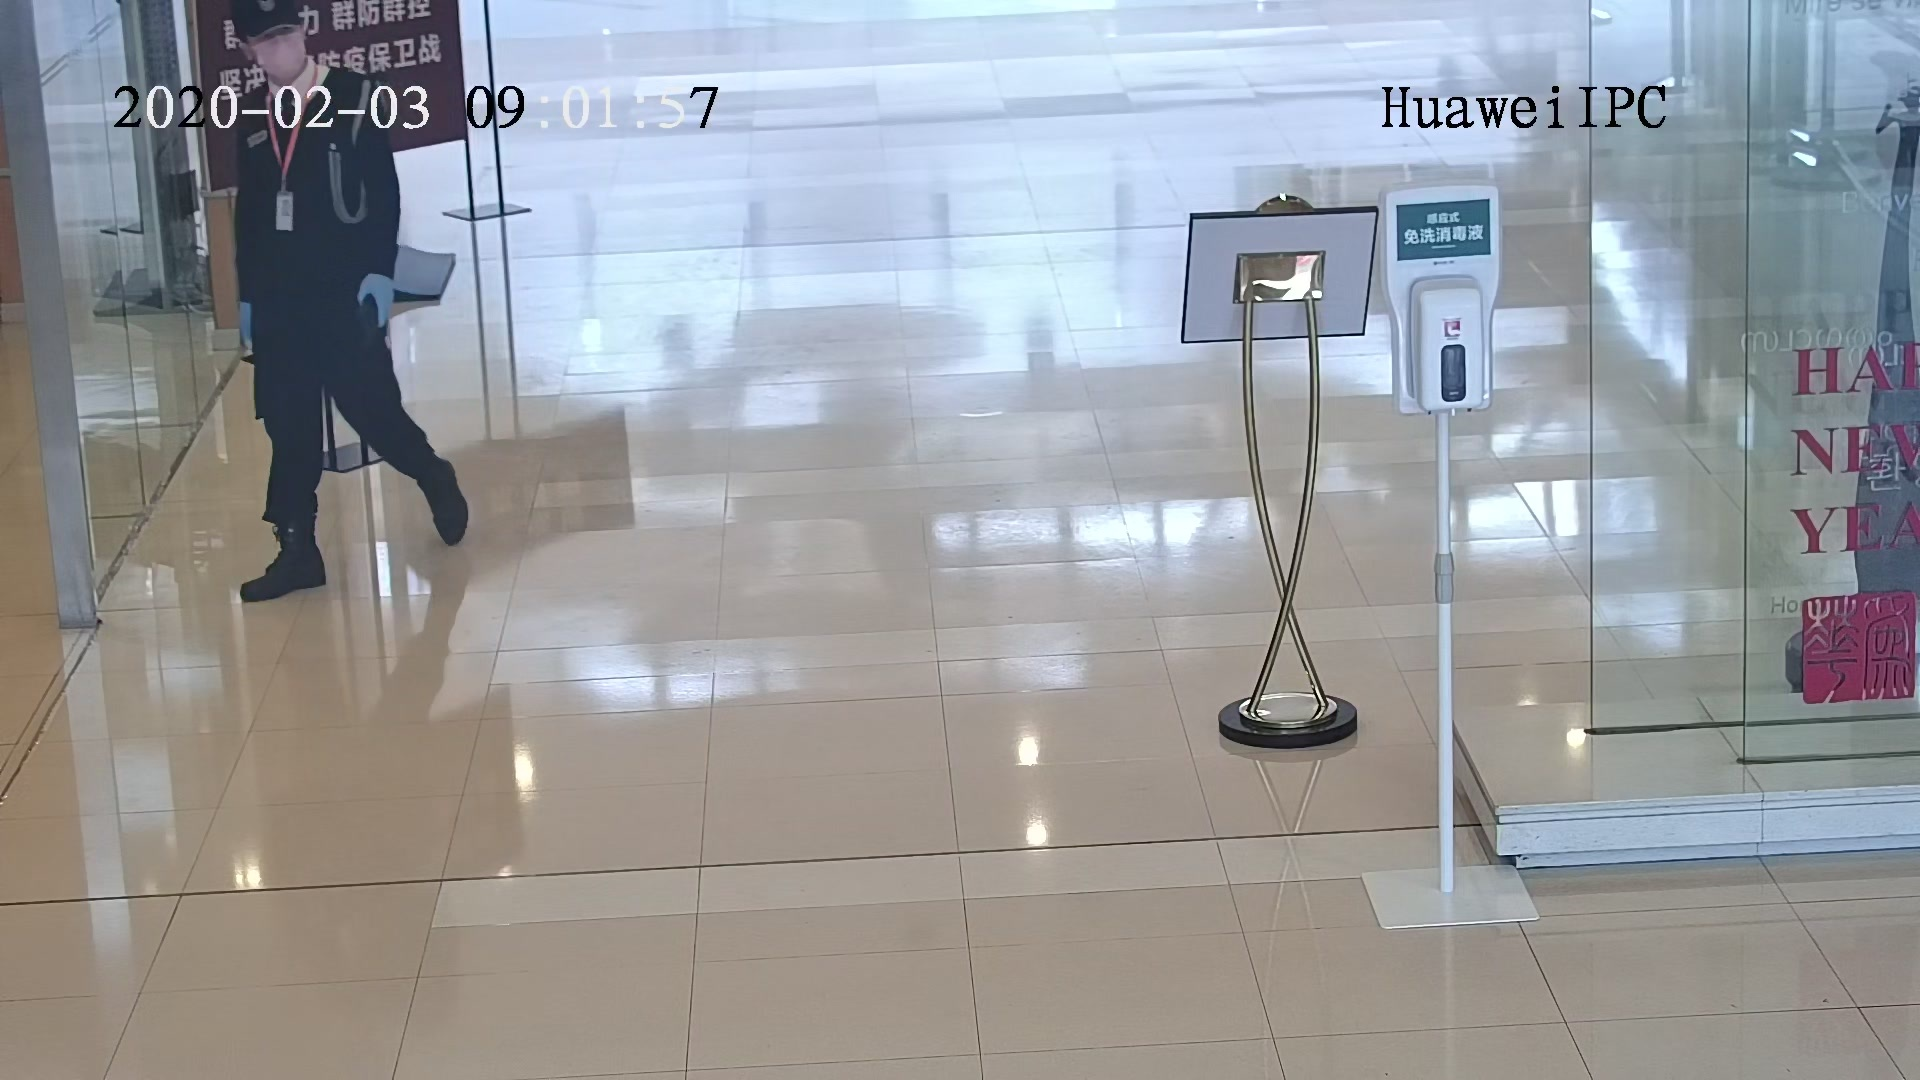face: (249, 15, 315, 78)
mask: (263, 37, 310, 81)
person: (228, 1, 380, 142)
